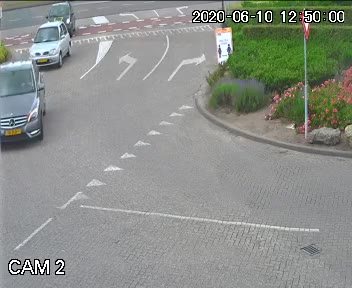car: (0, 60, 51, 148), (31, 22, 72, 72), (46, 0, 76, 28)
